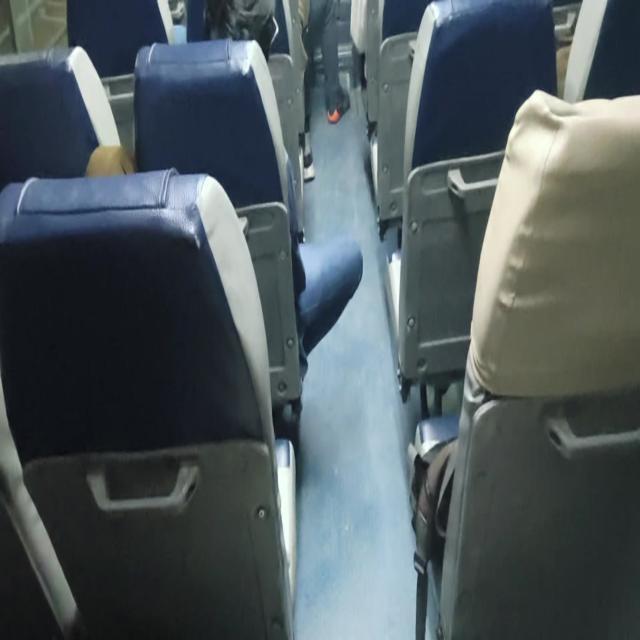person: (195, 0, 269, 52)
